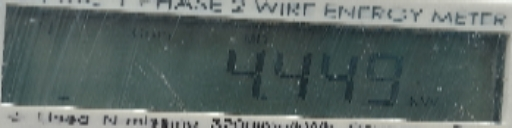4: (273, 46, 317, 108), (318, 49, 361, 108), (227, 45, 264, 104)
9: (363, 46, 401, 108)
d: (261, 90, 273, 105)
